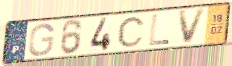4: (88, 16, 113, 53)
6: (60, 18, 83, 57)
C: (117, 16, 146, 48)
G: (27, 22, 56, 58)
L: (148, 13, 171, 47)
V: (177, 7, 208, 47)
